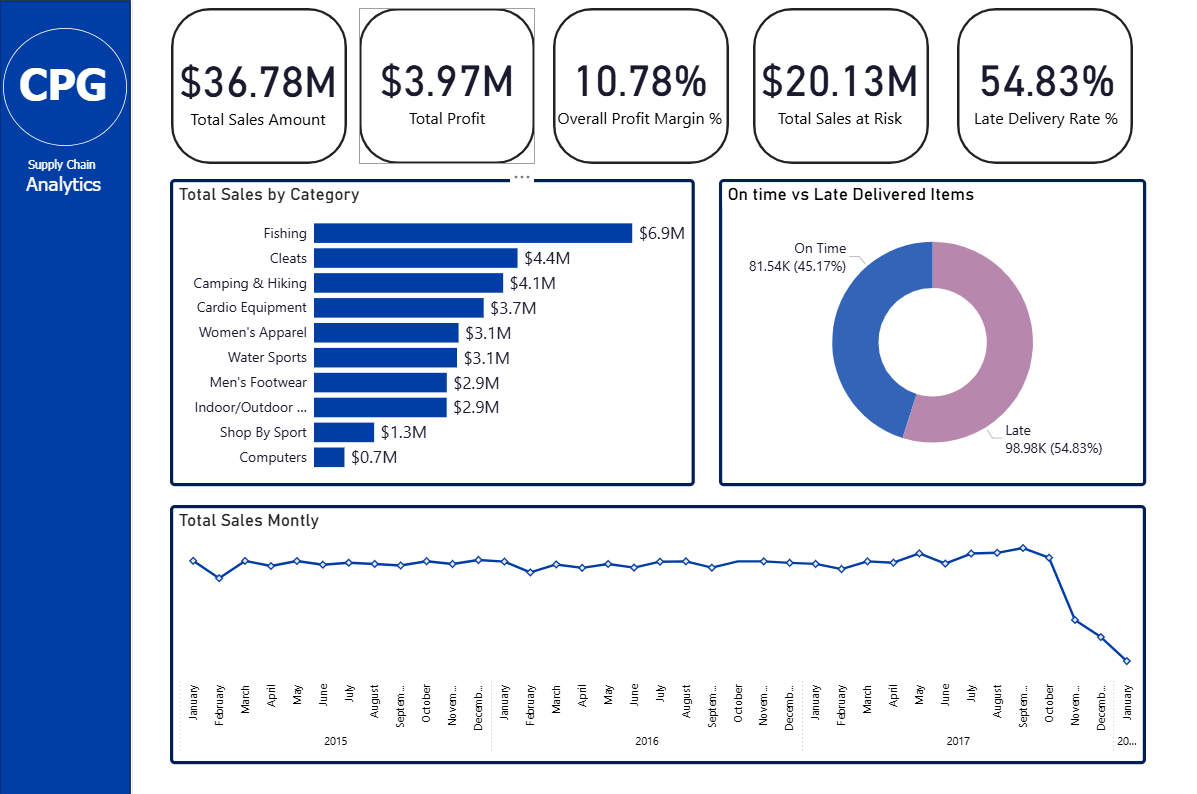

This screenshot's page, from the dashboard's own definition file:
{"tool":"powerbi","page":{"name":"Executive Summary","canvas":[1500,1000],"ordinal":0},"visuals":[{"type":"shape","box":[0,0,170,1000],"z":0},{"type":"card","fields":{"Values":["FACT_ORDERS.Overall Profit Margin Fact%"]},"box":[688,24,232,172],"z":1000},{"type":"card","fields":{"Values":["Sum(FACT_ORDERS.SALES_AMOUNT)"]},"box":[216.7,25,220,171.7],"z":2000},{"type":"card","fields":{"Values":["Sum(MART_LATE_DELIVERY_IMPACT.SALES_AT_RISK)"]},"box":[938,24,232,172],"z":3000},{"type":"card","fields":{"Values":["MART_LATE_DELIVERY_IMPACT.Late Delivery Rate %"]},"box":[1186,24,250,172],"z":4000},{"type":"card","fields":{"Values":["FACT_ORDERS.Total Profit"]},"box":[452,24,220,172],"z":5000},{"type":"barChart","title":"Total Sales by Category","fields":{"Y":["Sum(MART_PROFIT_BY_CATEGORY_REGION.TOTAL_SALES)"],"Category":["MART_PROFIT_BY_CATEGORY_REGION.CATEGORY_NAME"]},"box":[216,226,656,384],"z":6000},{"type":"lineChart","title":"Total Sales Montly","fields":{"Y":["Sum(FACT_ORDERS.SALES_AMOUNT)"],"Category":["DIM_DATE.DATE_KEY.Variation.Date Hierarchy.Year","DIM_DATE.DATE_KEY.Variation.Date Hierarchy.Month"]},"box":[216,634,1220,324],"z":7000},{"type":"donutChart","title":"On time vs Late Delivered Items","fields":{"Y":["Sum(MART_LATE_DELIVERY_IMPACT.LATE_ORDERS_ITEMS)","MART_LATE_DELIVERY_IMPACT.Total Ontime Delivered Items"]},"box":[902,226,534,384],"z":8000},{"type":"shape","box":[217.5,12.5,220,195],"z":9000},{"type":"shape","box":[452.5,12.5,220,195],"z":10000},{"type":"shape","box":[695,12.5,220,195],"z":11000},{"type":"shape","box":[945,12.5,220,195],"z":12000},{"type":"shape","box":[1200,12.5,220,195],"z":13000},{"type":"textbox","box":[26,194,114,64],"z":14000},{"type":"textbox","box":[22.5,70,147.5,80],"z":15000},{"type":"shape","box":[7.5,37.5,155,147.5],"z":16000}]}

Visuals, with their boxes in screenshot pixels (x1, y1, x2, y2), scaled from the page's 1500x1000 canvas onto the 1197x794 screenshot:
shape: locate(0, 0, 136, 793)
card - FACT_ORDERS.Overall Profit Margin Fact%: locate(549, 19, 734, 156)
card - Sum(FACT_ORDERS.SALES_AMOUNT): locate(173, 20, 348, 156)
card - Sum(MART_LATE_DELIVERY_IMPACT.SALES_AT_RISK): locate(749, 19, 934, 156)
card - MART_LATE_DELIVERY_IMPACT.Late Delivery Rate %: locate(946, 19, 1146, 156)
card - FACT_ORDERS.Total Profit: locate(361, 19, 536, 156)
"Total Sales by Category" barChart: locate(172, 179, 696, 484)
"Total Sales Montly" lineChart: locate(172, 503, 1146, 761)
"On time vs Late Delivered Items" donutChart: locate(720, 179, 1146, 484)
shape: locate(174, 10, 349, 165)
shape: locate(361, 10, 537, 165)
shape: locate(555, 10, 730, 165)
shape: locate(754, 10, 930, 165)
shape: locate(958, 10, 1133, 165)
textbox: locate(21, 154, 112, 205)
textbox: locate(18, 56, 136, 119)
shape: locate(6, 30, 130, 147)
